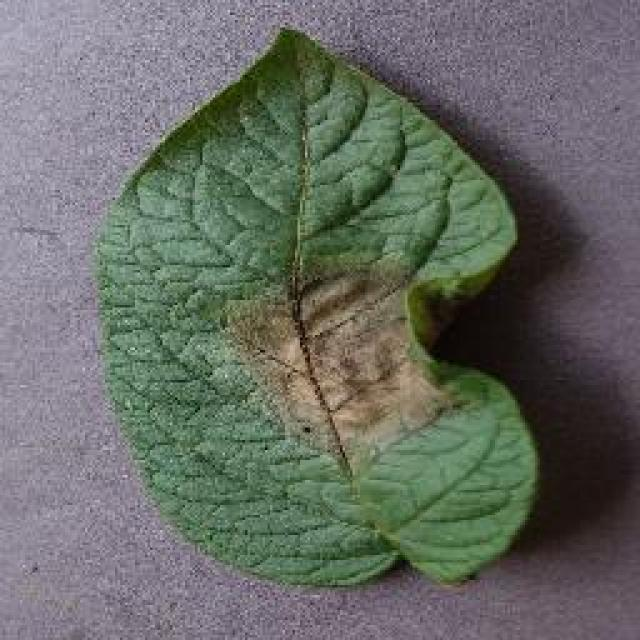late_blight: (88, 22, 542, 592)
